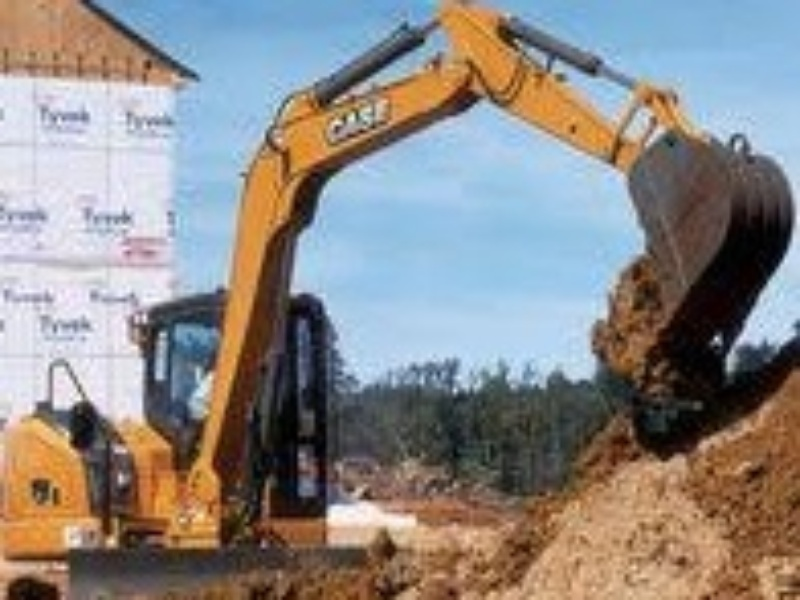wajueji: (1, 234, 481, 600)
